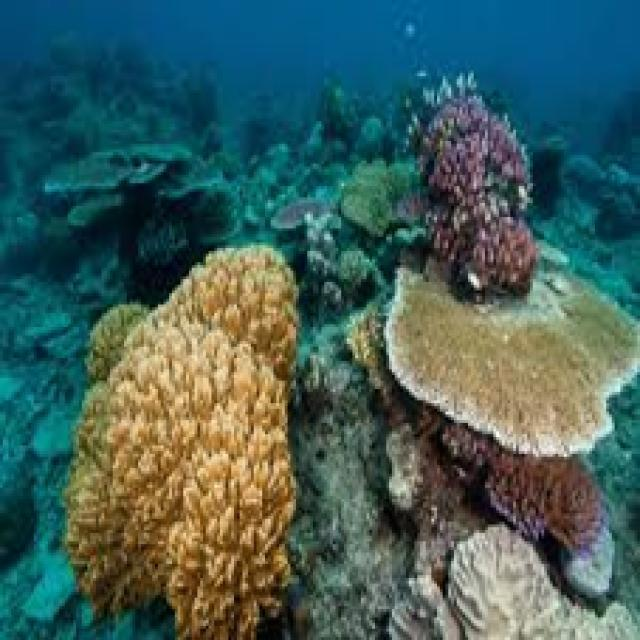Bleached: (449, 534, 640, 639), (396, 569, 451, 640)
Healthy: (74, 244, 297, 630), (395, 260, 640, 449), (417, 99, 545, 305), (489, 453, 602, 548), (443, 417, 489, 463)
